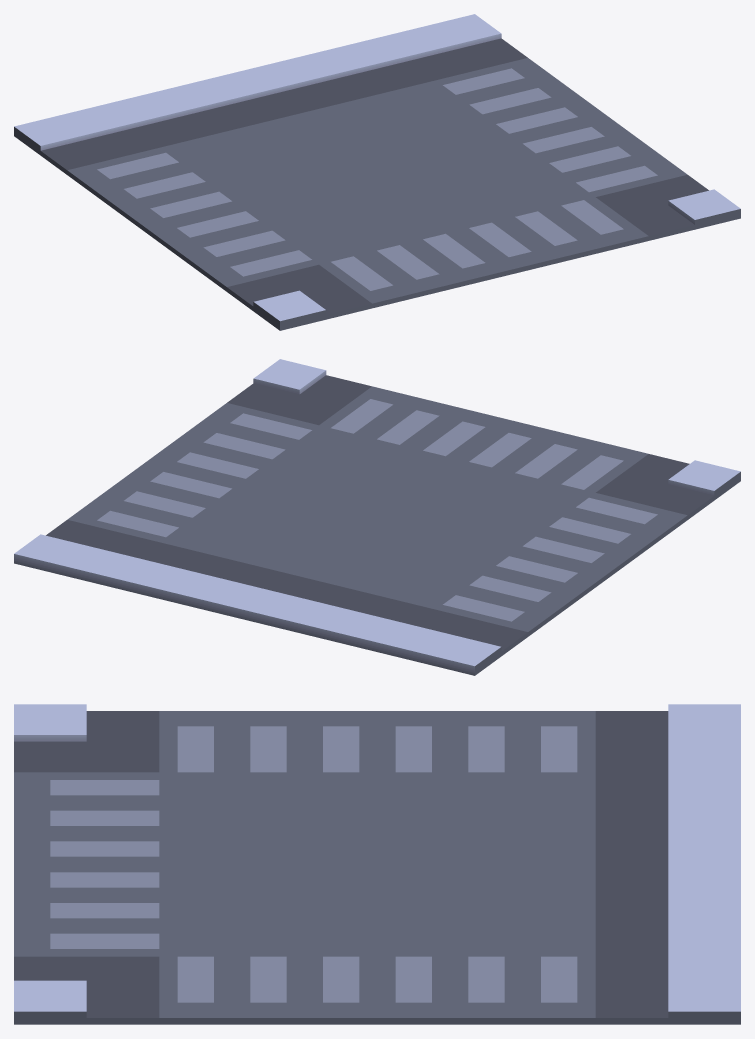
Rendered from road-intersection-path.glb.
The picture shows the model from 3 angles, top to bottom: view 1: azimuth 30°, elevation 25°; view 2: azimuth 150°, elevation 25°; view 3: azimuth 270°, elevation 25°; orthographic projection. The views are drawn at different scales.
Parts seen in each view (by area): view 1: road-intersection-path; view 2: road-intersection-path; view 3: road-intersection-path.
Boxes of the visible parts, left/top/right/bottom form: road-intersection-path: left=14, top=14, right=740, bottom=330; road-intersection-path: left=14, top=359, right=740, bottom=675; road-intersection-path: left=14, top=704, right=740, bottom=1024.
Bounding box in the file's own units: 1 × 0.02 × 1.
Materials: 1 (1 with a texture image).
